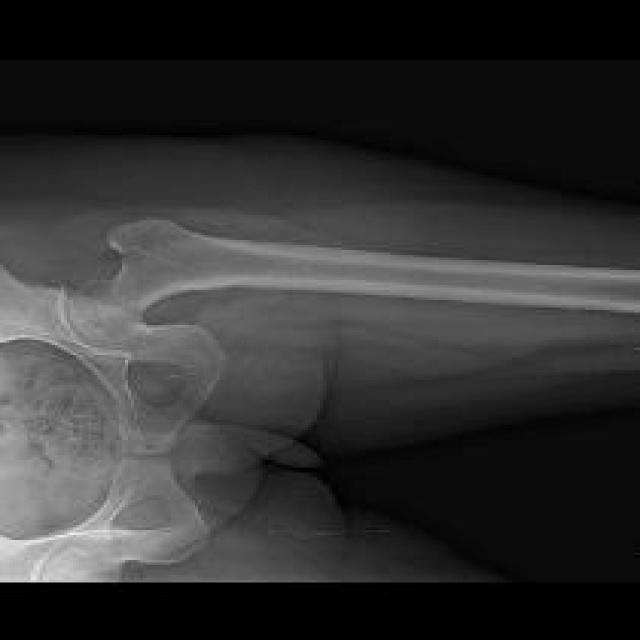normal: (0, 218, 640, 584)
